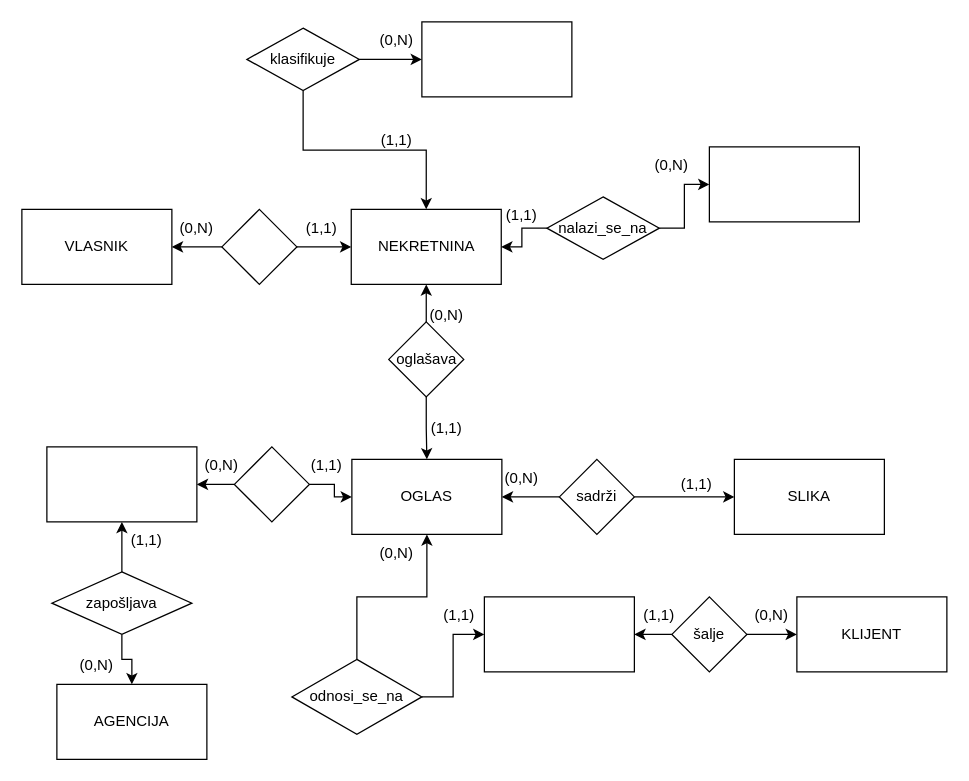
The diagram is 969 pixels wide and 781 high, and some of its shapes have lost their labels. The centre of each missing label's shape, as x and y in pixels:
"AGENT" goes at [121,484].
"KATEGORIJA" goes at [496,59].
"kreira" goes at [271,484].
"LOKACIJA" goes at [783,184].
"poseduje" goes at [259,246].
"UPIT" goes at [558,634].
